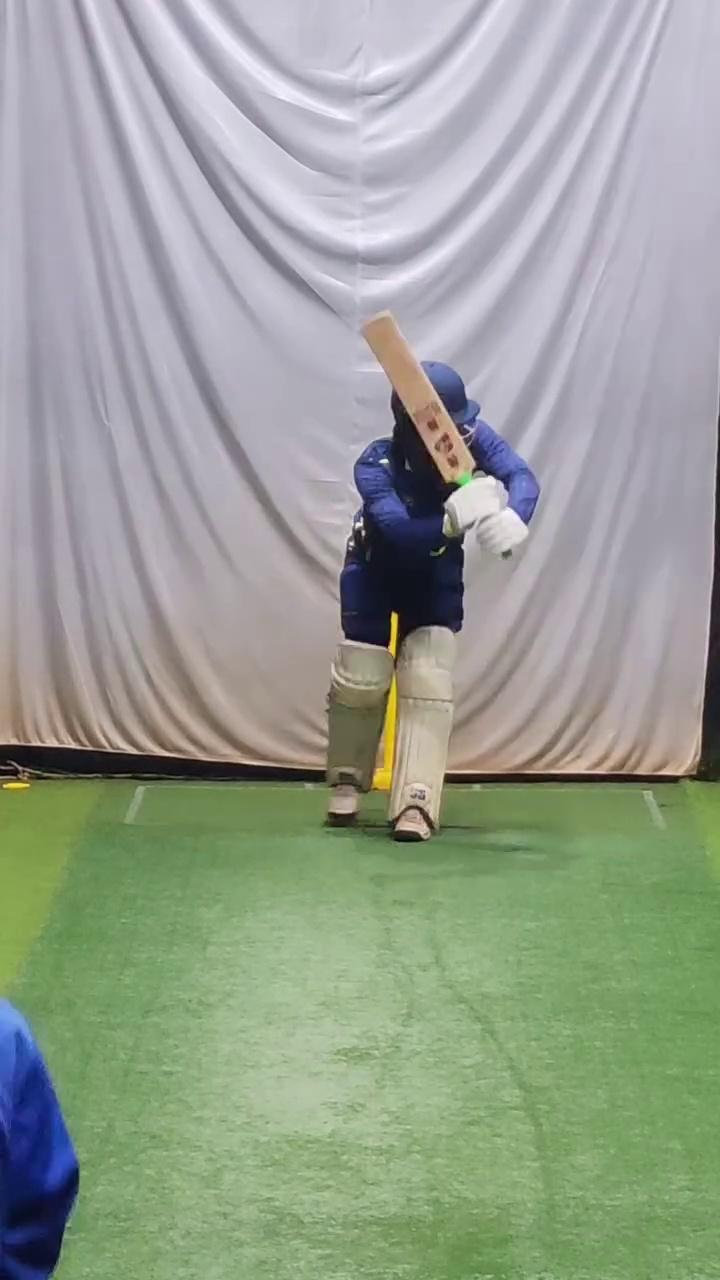bat: (354, 309, 479, 485)
